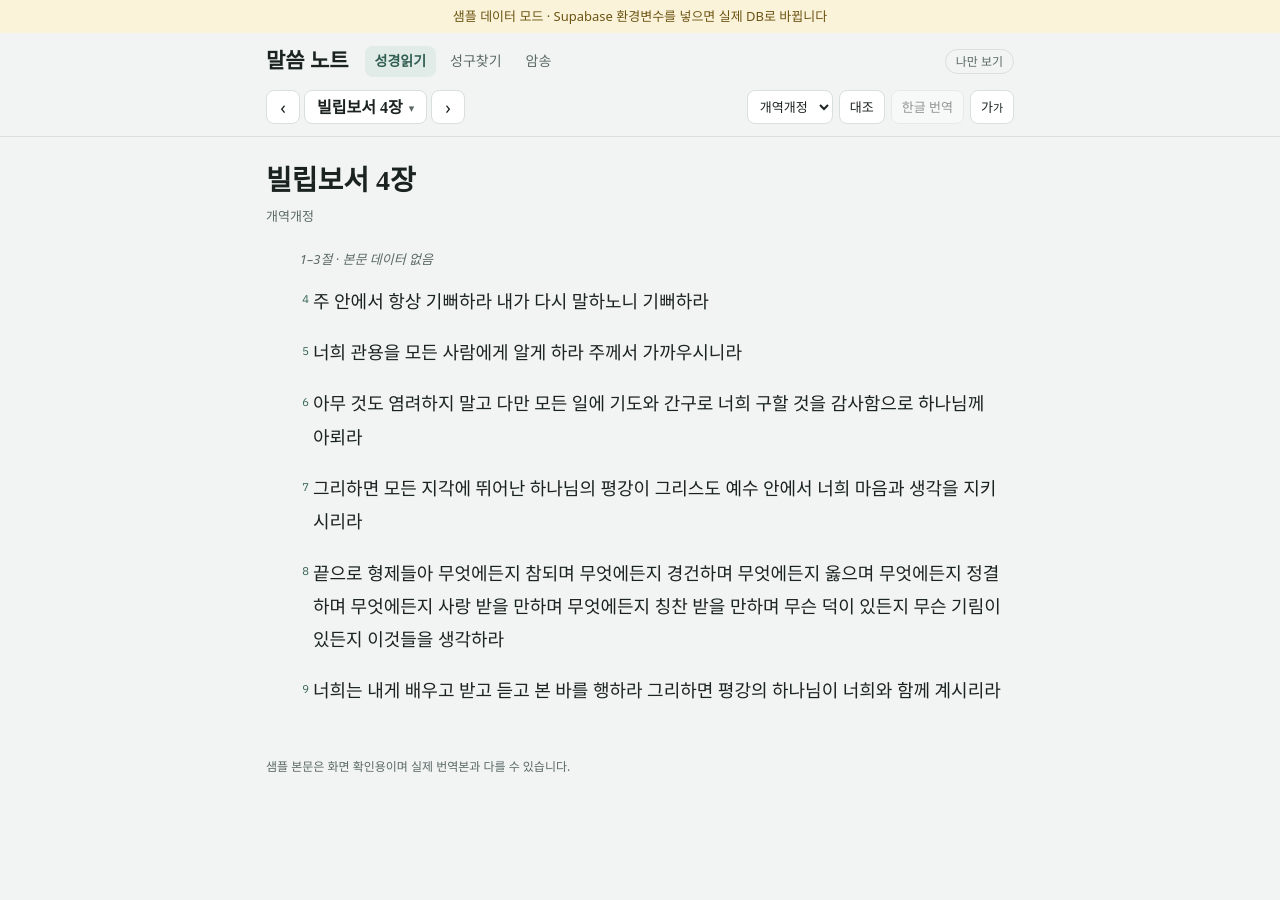
Scenario: app (sample mode) › offers manual entry, and reports a failed translation
The image size is (1280, 900).
Check: the heading "빌립보서 4장" is shown, box left=266, top=165, right=416, bottom=196
# AMP: the sample repo is shared across tests, and no other test translates AMP
Select "AMP" in the dropdown named "번역본" at x=790, y=107, box left=747, top=90, right=833, bottom=124
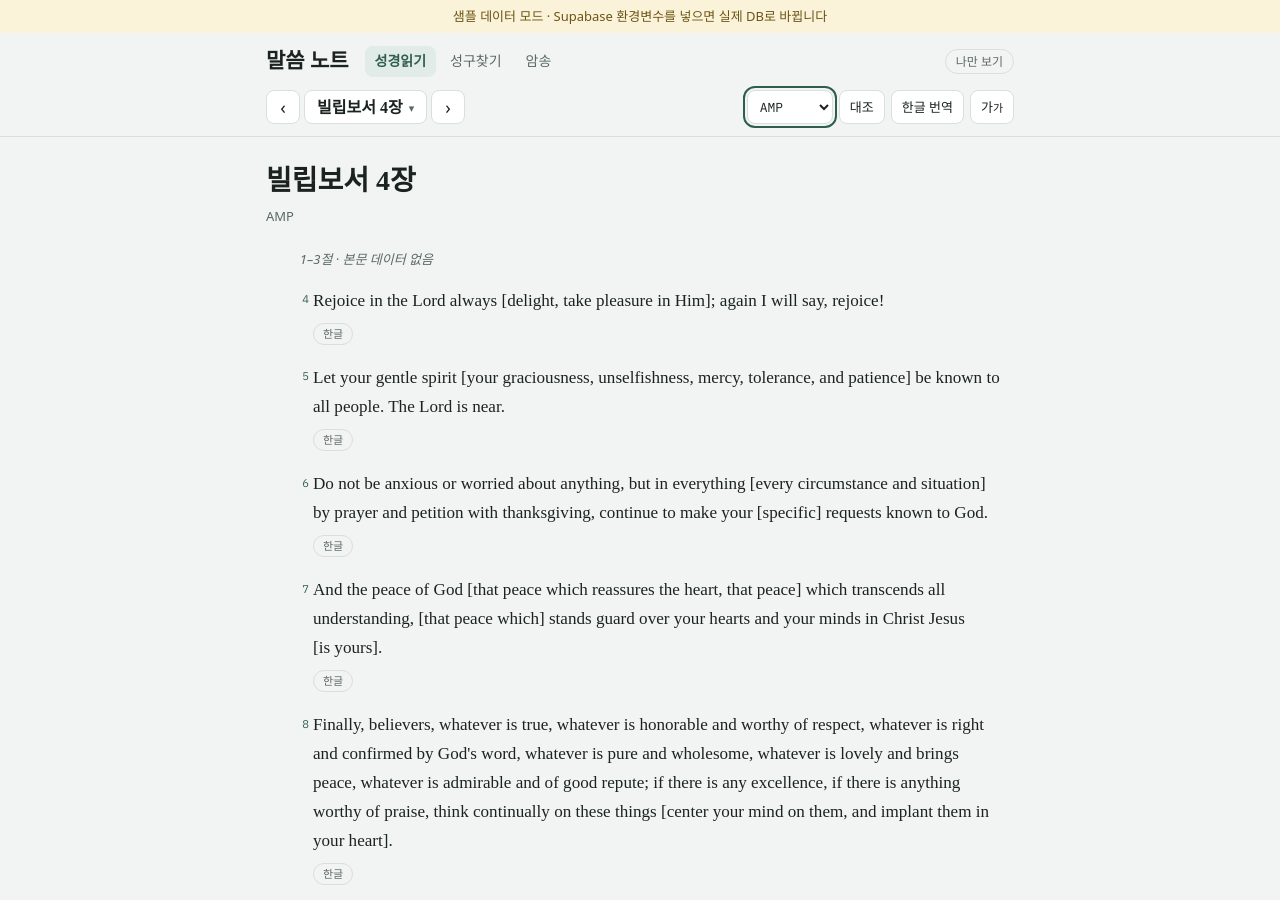
Click the button "한글 번역" at x=927, y=107, box left=891, top=90, right=964, bottom=124
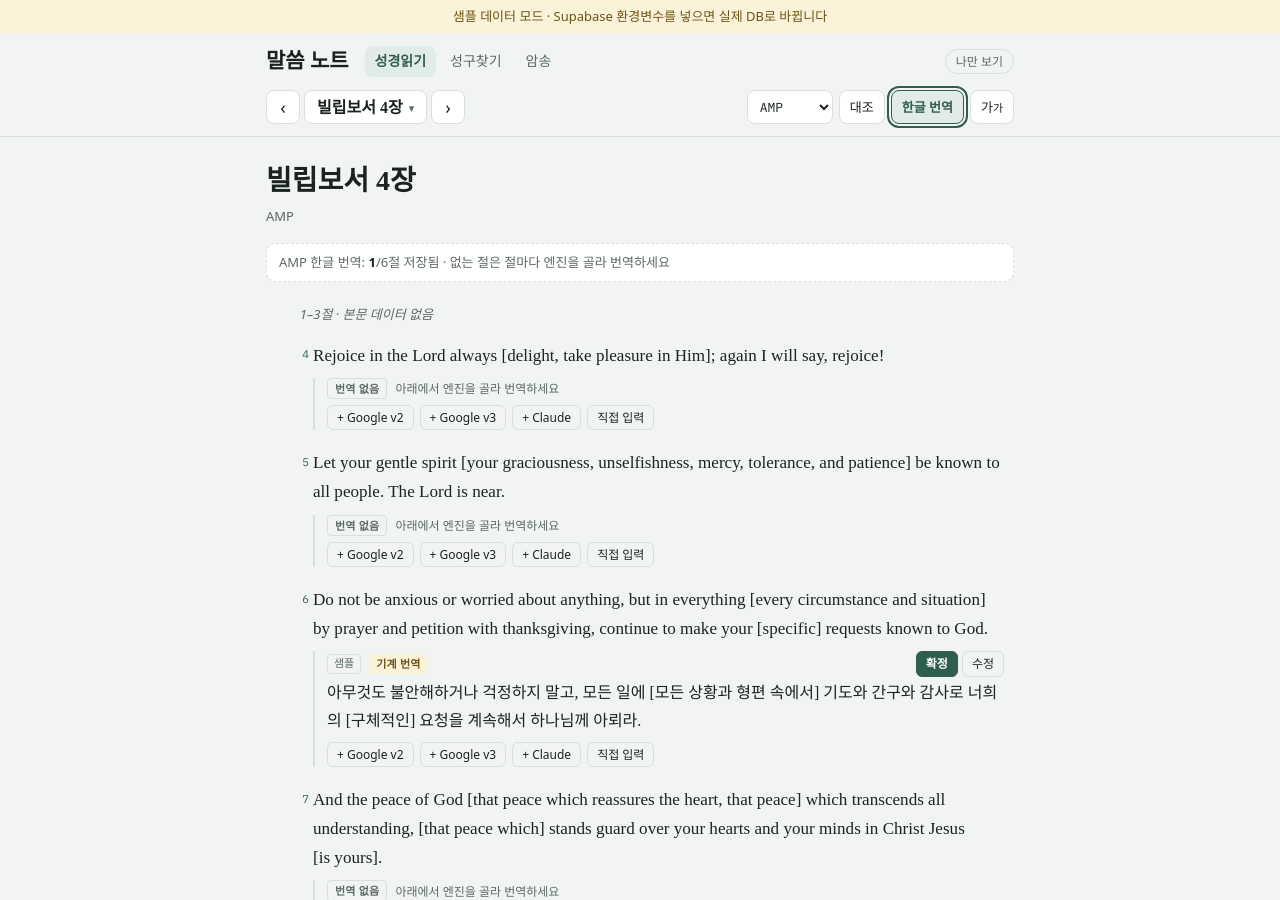
Check: the number of buttons "직접 입력" is 6
Click the 2nd button "+ Google v3" at x=463, y=555, box left=420, top=542, right=506, bottom=567
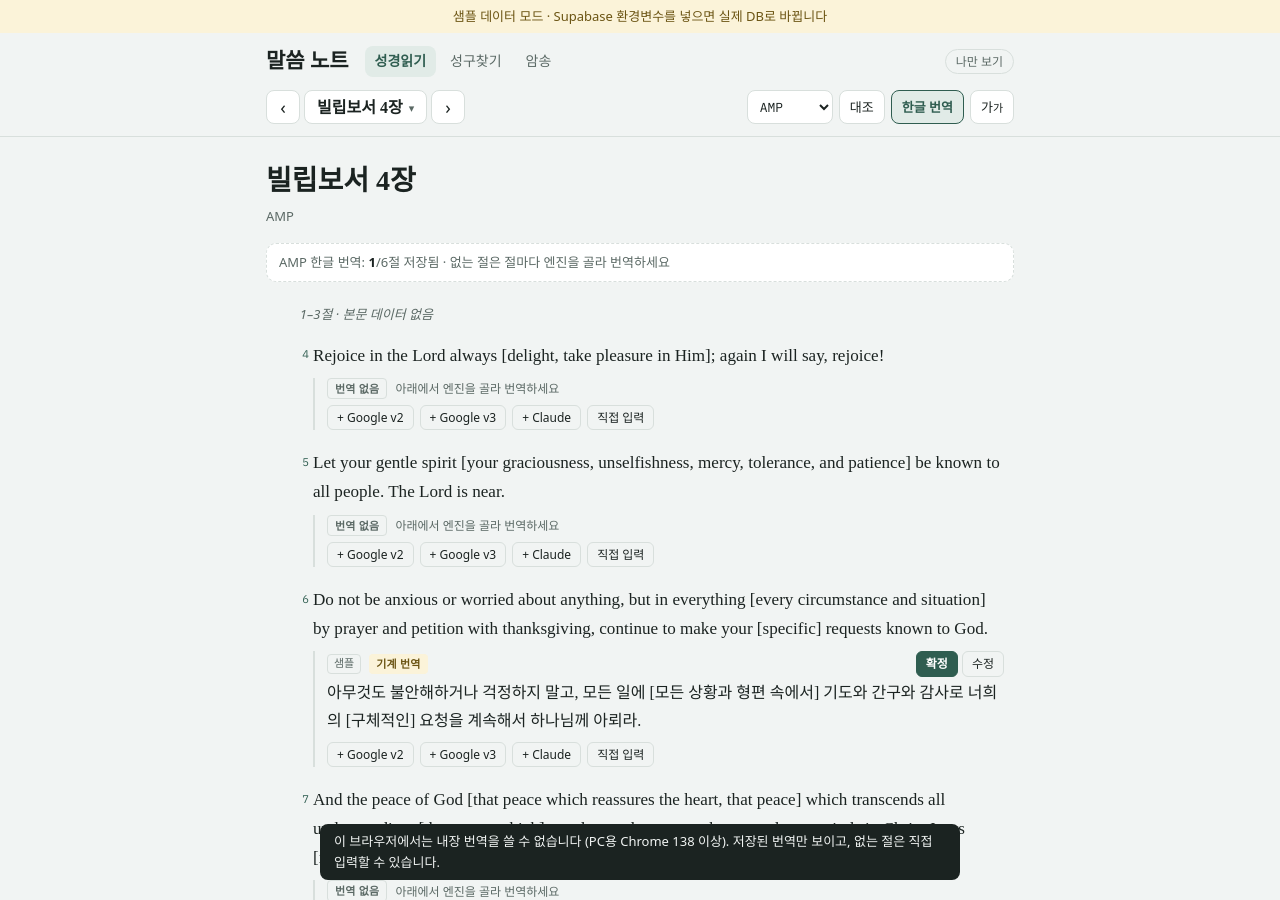
Check: the text "번역을 쓸 수 없습니다" is shown, box left=334, top=832, right=932, bottom=871
Click the 2nd button "직접 입력" at x=621, y=555, box left=587, top=542, right=654, bottom=567
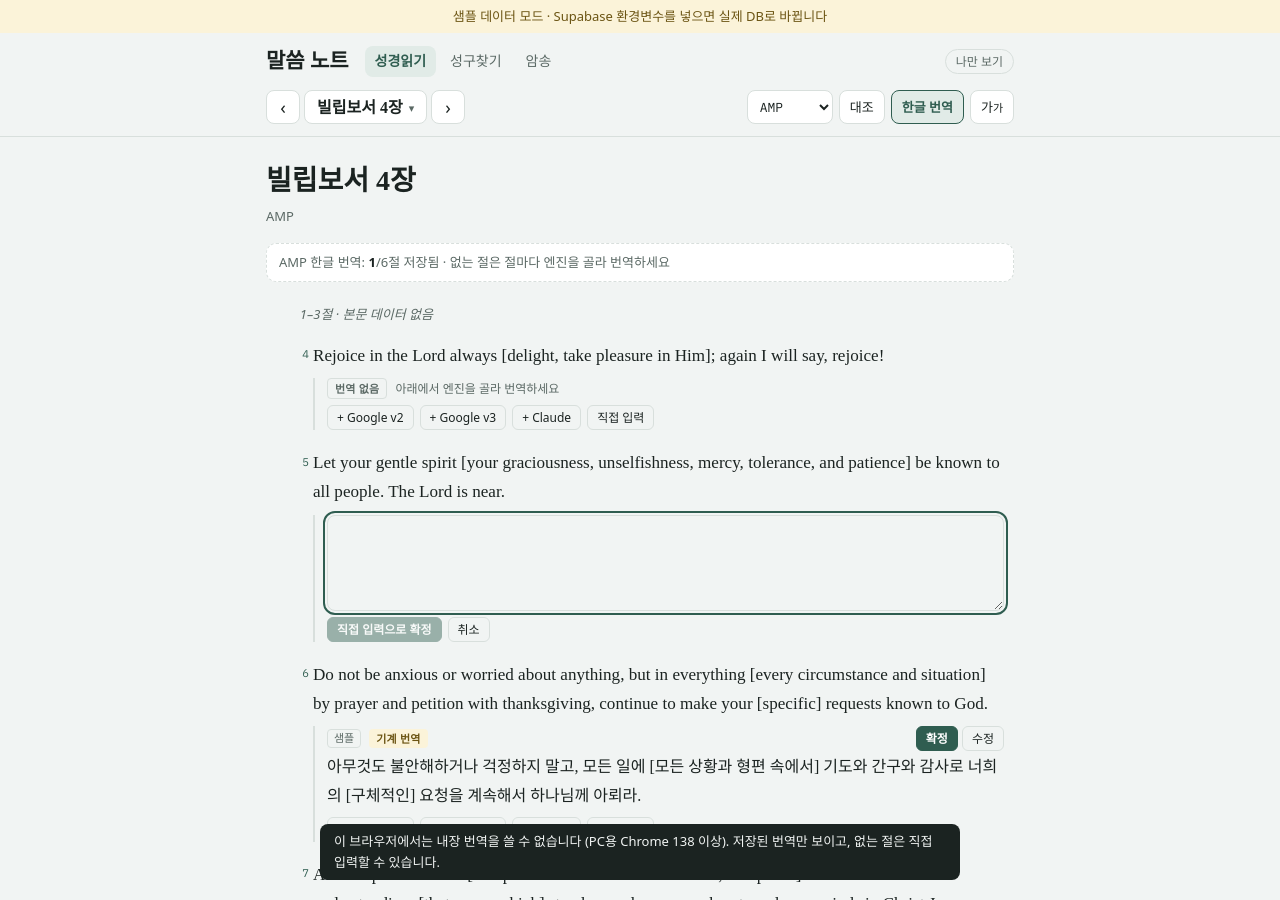
Type "너희 관용을 모든 사람에게 알게 하라" into the text box named "한글 번역 수정" at x=666, y=562, box left=327, top=514, right=1004, bottom=610
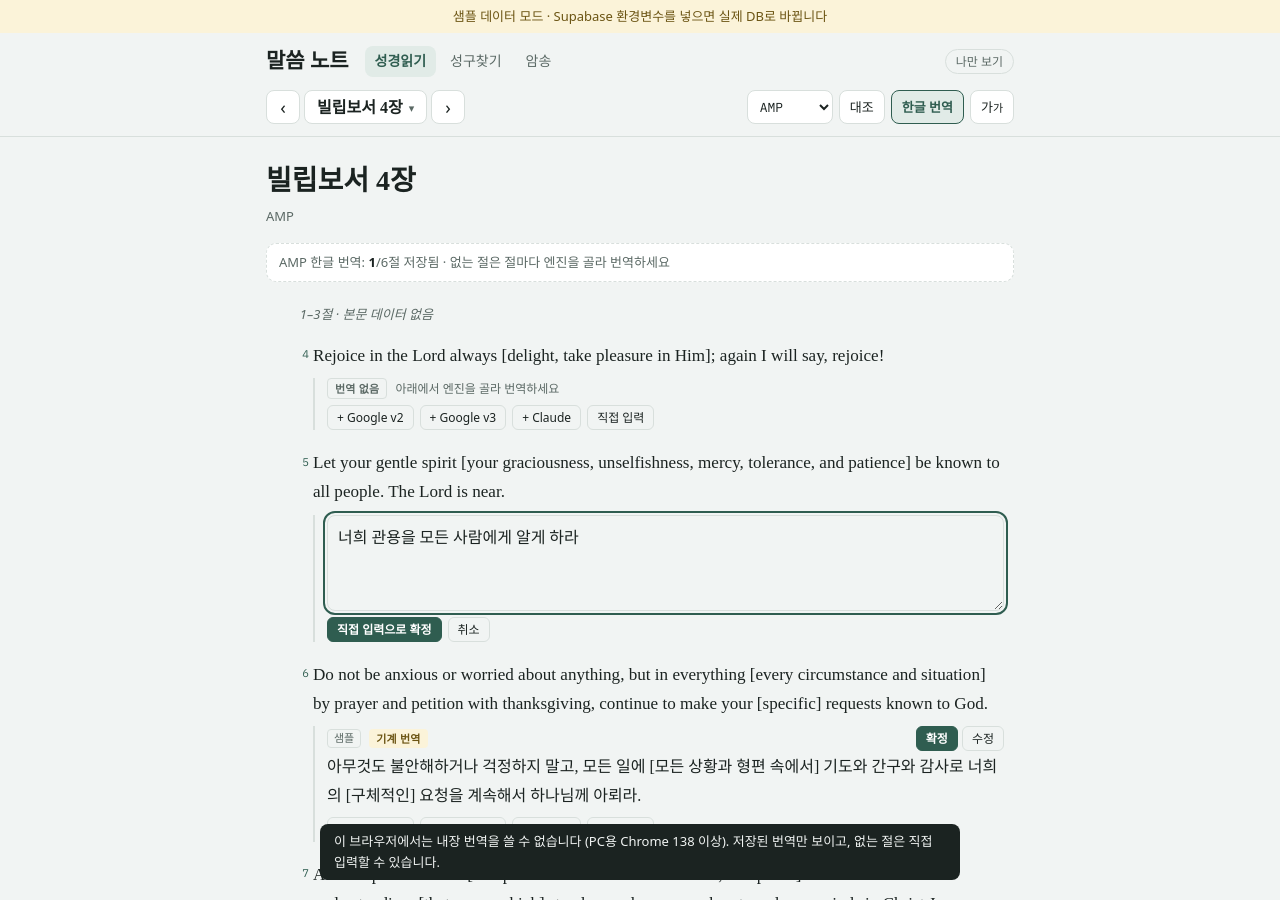
Click the button "직접 입력으로 확정" at x=384, y=629, box left=327, top=616, right=442, bottom=642
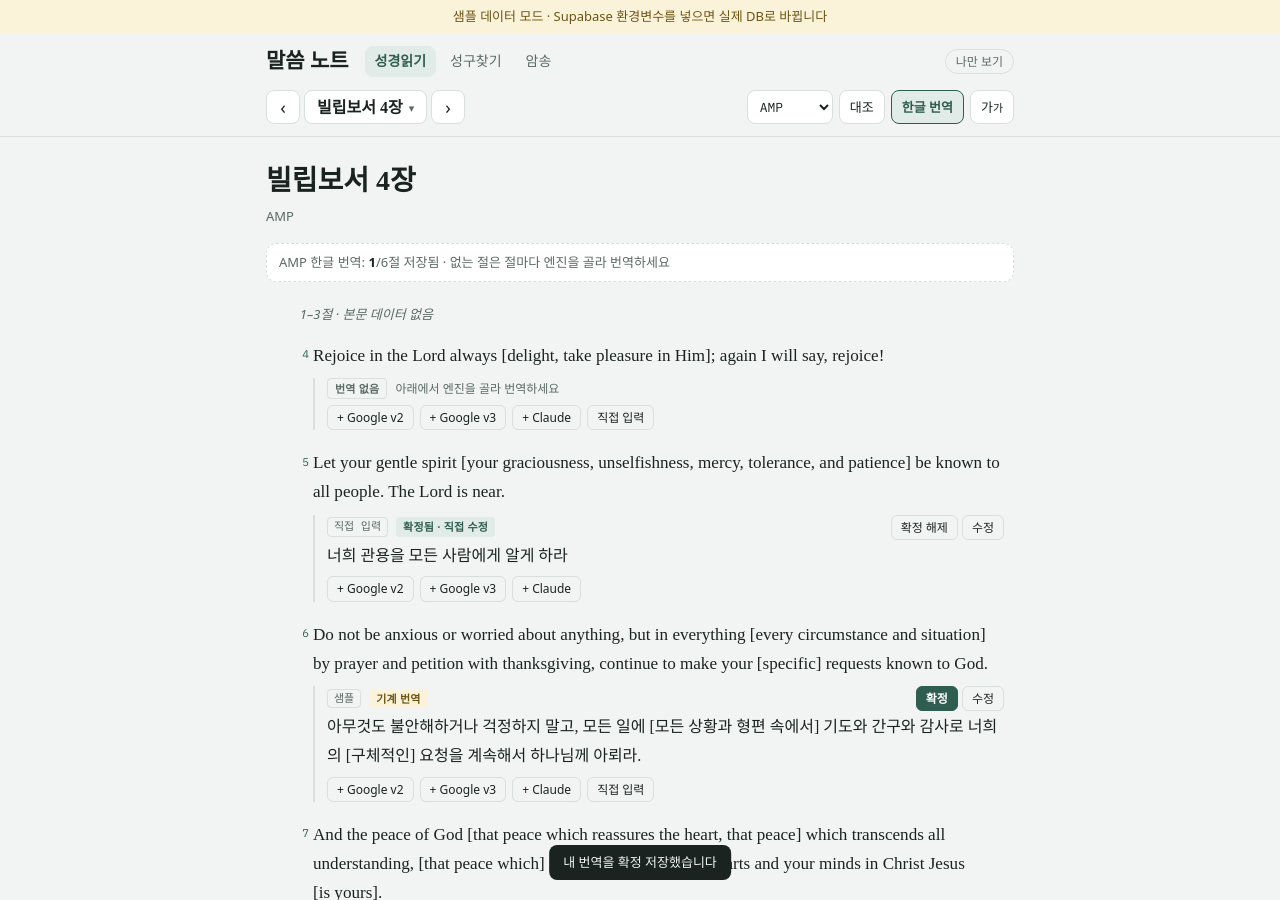
Check: the text "직접 입력" is shown, box left=327, top=517, right=388, bottom=537
Check: the text "너희 관용을 모든 사람에게 알게 하라" is shown, box left=327, top=547, right=568, bottom=564
Check: the text "확정됨 · 직접 수정" is shown, box left=396, top=517, right=495, bottom=537
